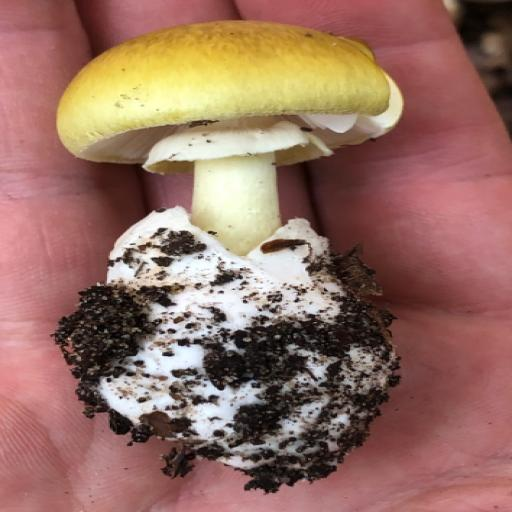Death Cap: (60, 24, 389, 480)
